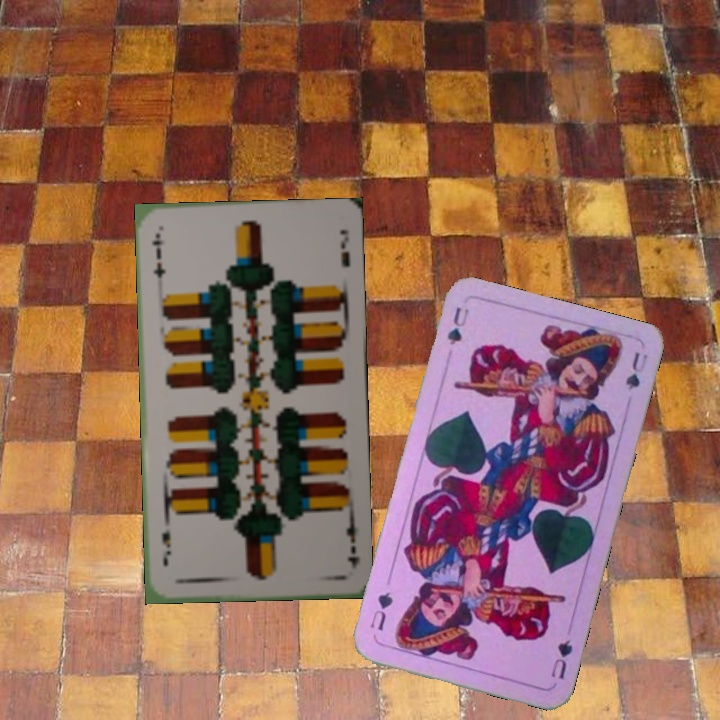E7: (342, 513, 362, 572), (148, 229, 168, 281)
GU: (547, 635, 576, 682), (443, 302, 472, 348)
